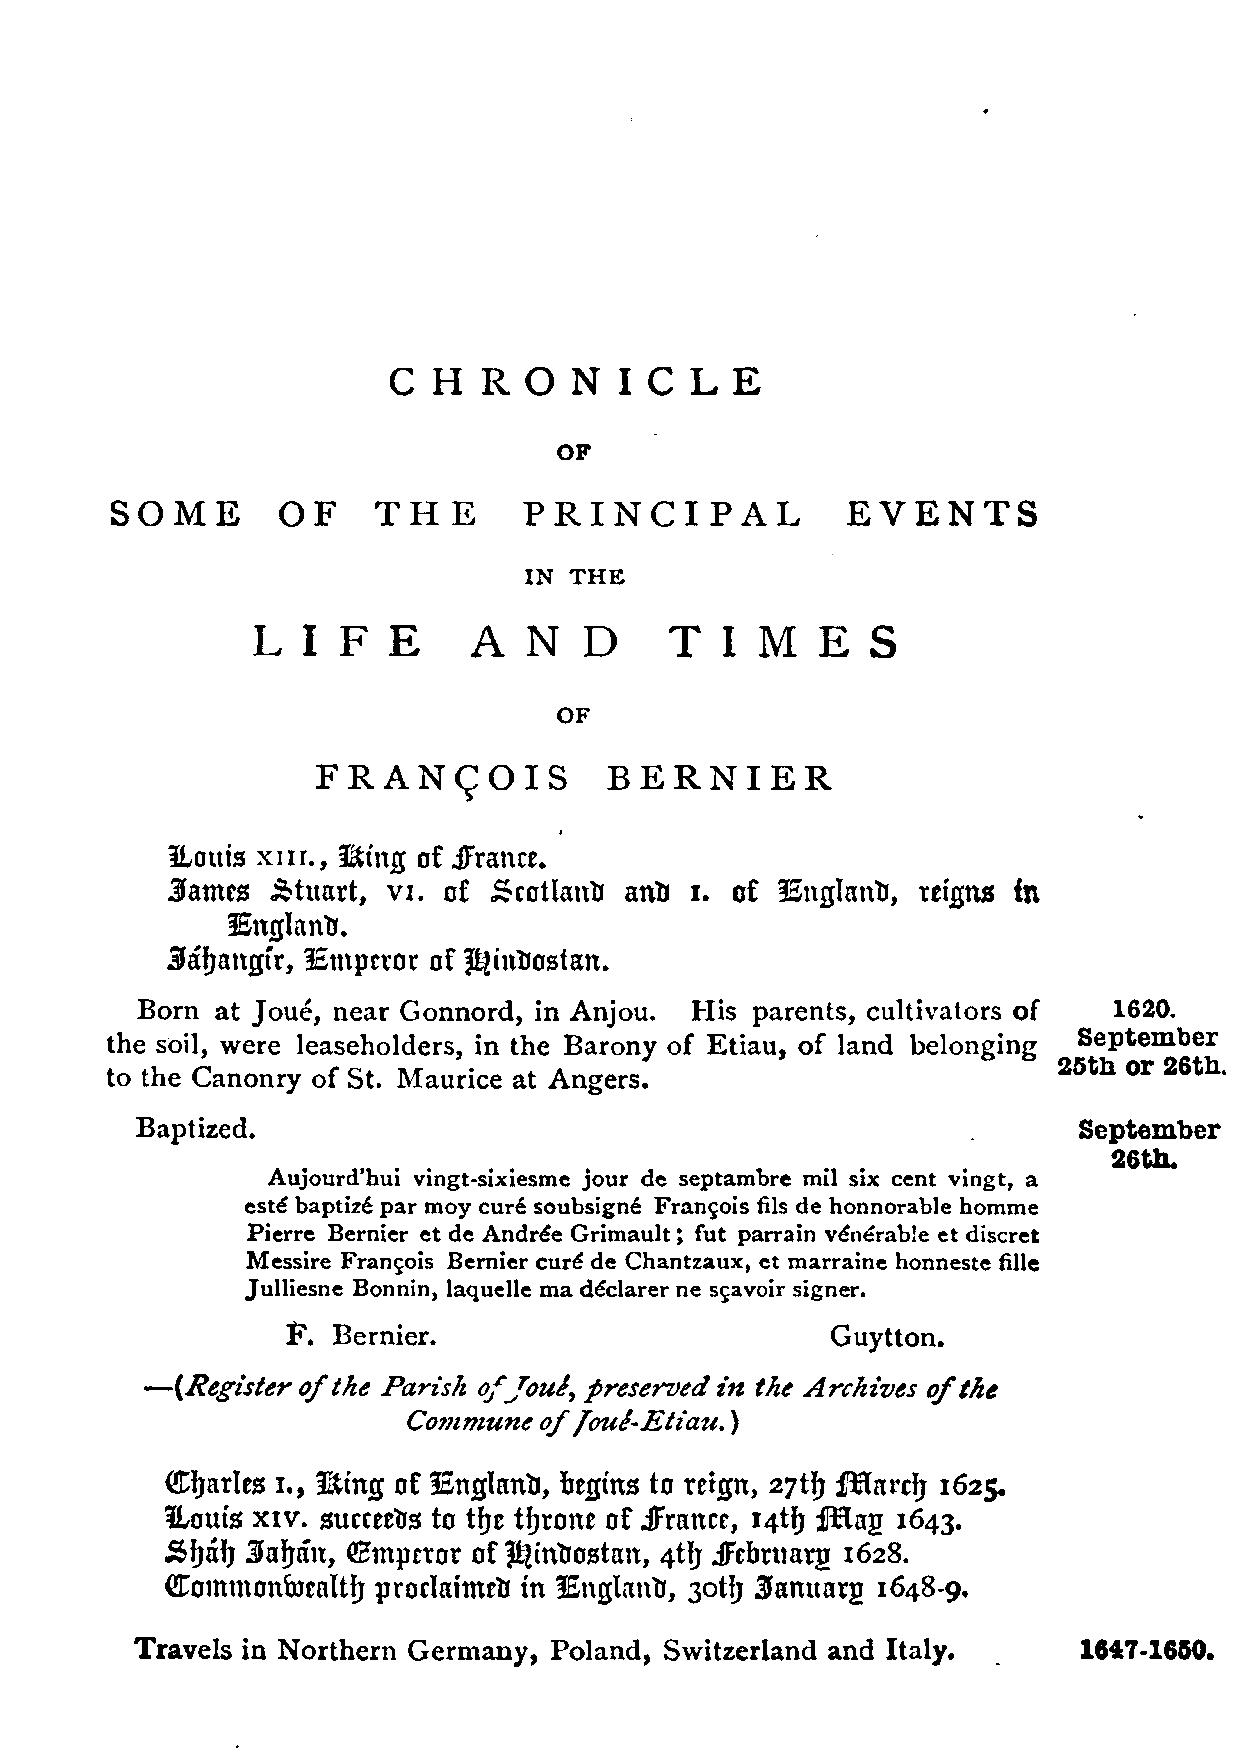chapter: (107, 365, 1039, 807)
content: (101, 841, 1040, 1671)
